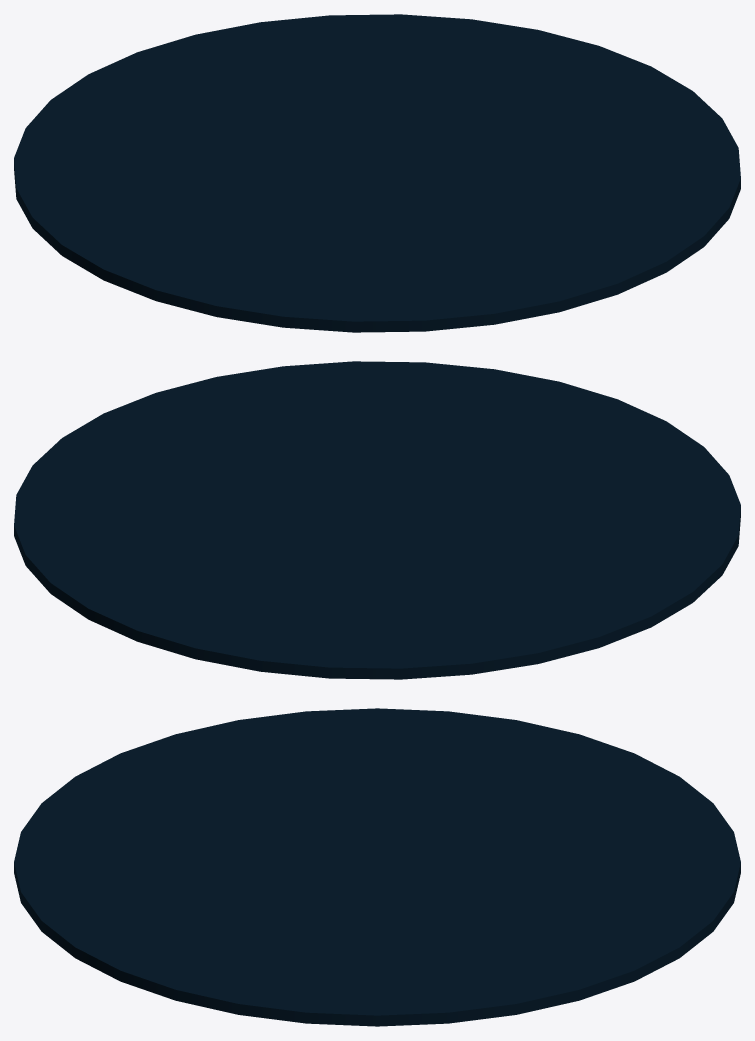
File: Rug_Sea.fbx
3 renders of one model, top to bottom at view 1: azimuth 30°, elevation 25°; view 2: azimuth 150°, elevation 25°; view 3: azimuth 270°, elevation 25°, orthographic.
Visible parts, largest first — view 1: Cylinder001; view 2: Cylinder001; view 3: Cylinder001.
Boxes of the visible parts, left/top/right/bottom form: Cylinder001: left=14, top=14, right=740, bottom=332; Cylinder001: left=14, top=361, right=740, bottom=679; Cylinder001: left=14, top=708, right=740, bottom=1026.
Bounding box in the file's own units: 96.34 × 1.6 × 96.34.
